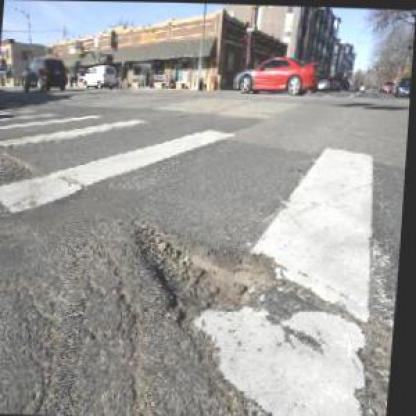pothole: (125, 209, 294, 326)
